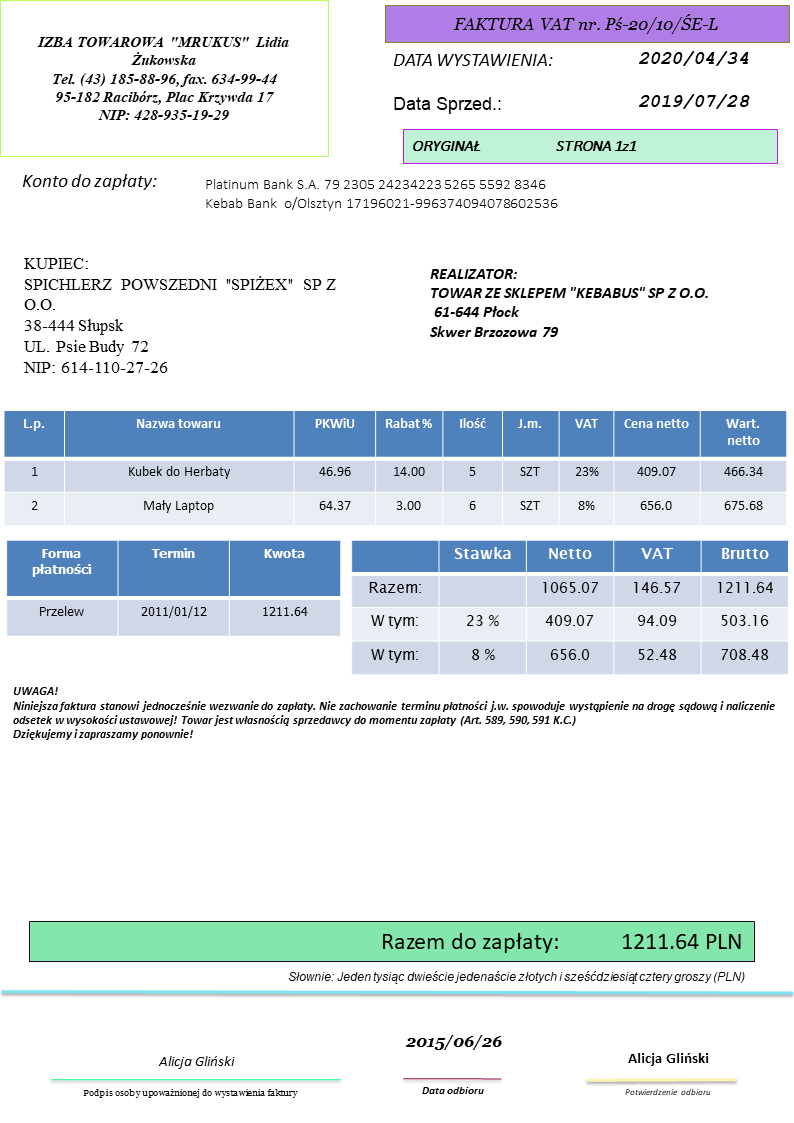Table: (2, 410, 787, 527), (350, 539, 787, 676), (5, 538, 342, 637)
TextBox: (10, 682, 778, 743), (20, 253, 340, 376), (33, 32, 293, 125), (427, 264, 710, 343), (202, 174, 560, 213), (378, 927, 741, 955), (286, 968, 746, 984), (449, 11, 721, 35), (409, 135, 639, 157), (80, 1085, 301, 1102), (390, 49, 554, 70), (20, 171, 157, 193), (390, 92, 504, 115), (635, 90, 751, 111), (635, 48, 751, 68), (402, 1032, 504, 1052), (624, 1049, 713, 1068), (156, 1051, 239, 1071), (622, 1085, 712, 1100), (419, 1083, 486, 1099)
